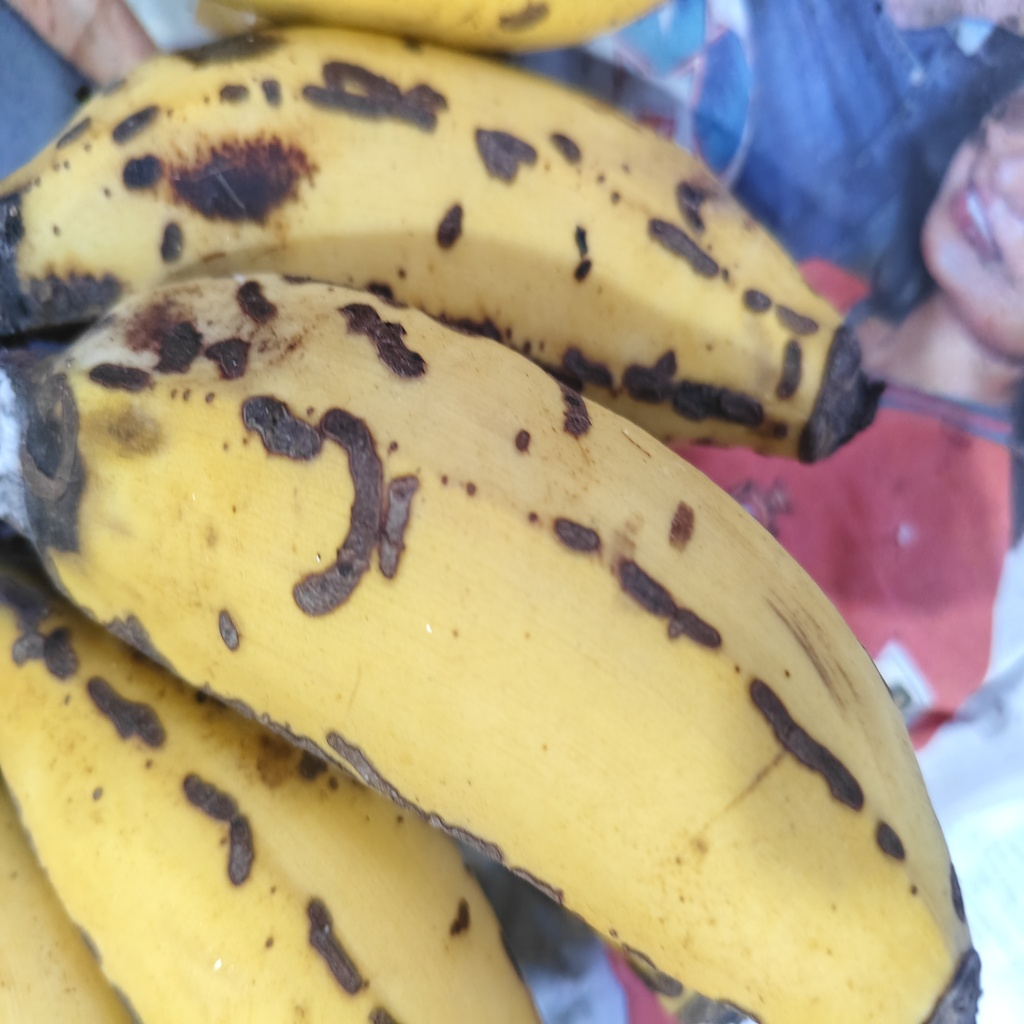unhealthy: (10, 270, 979, 1021), (38, 23, 855, 461)
